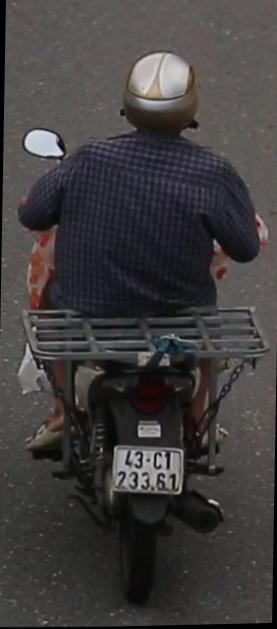LP: (105, 434, 190, 512)
helmet: (120, 41, 204, 143)
